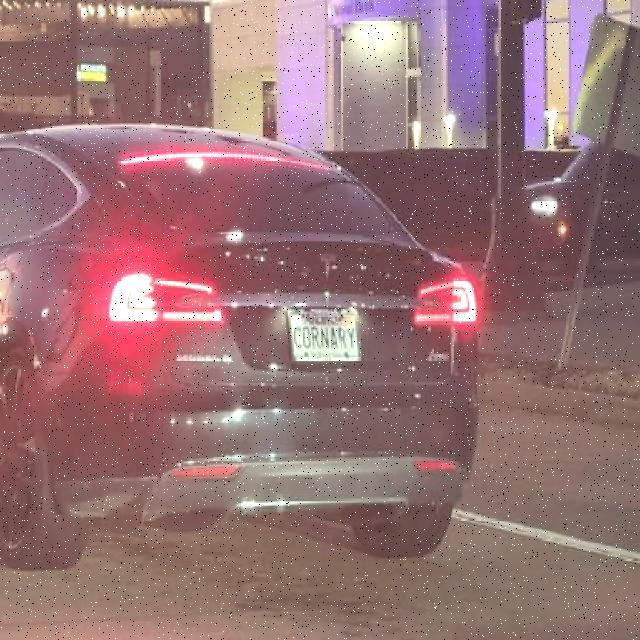licenseplate: (286, 307, 363, 364)
